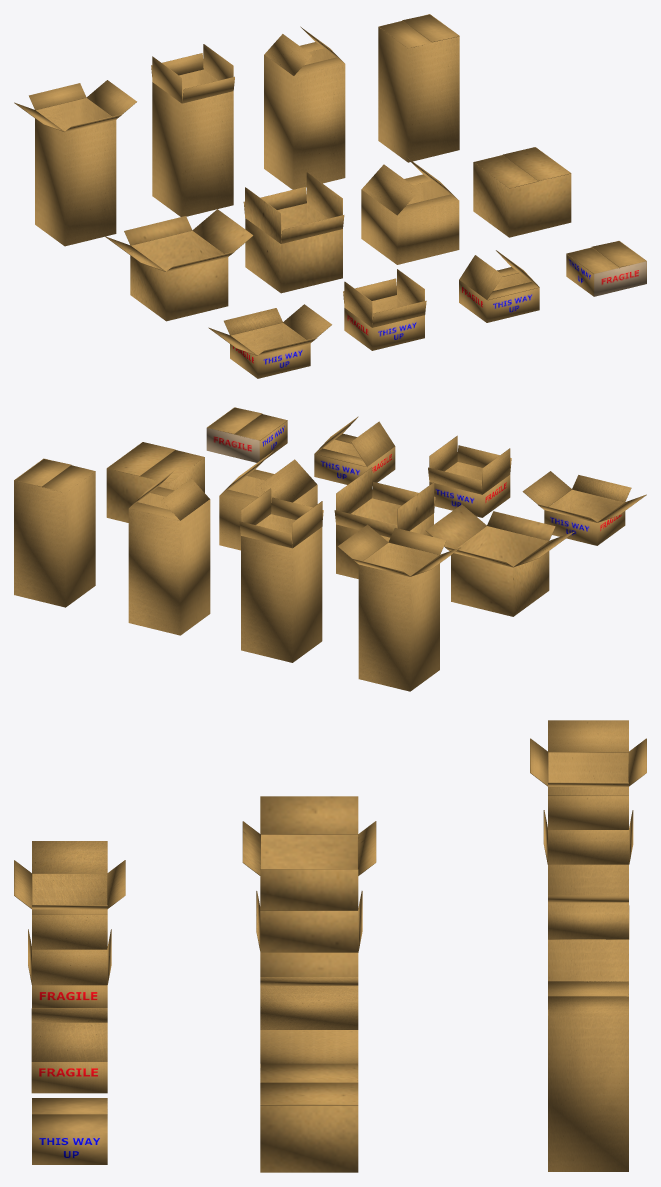
The model's file is CardboardBoxes.fbx.
3 views of the same model, one above another, from view 1: azimuth 30°, elevation 25°; view 2: azimuth 150°, elevation 25°; view 3: azimuth 270°, elevation 25° (orthographic). The views are drawn at different scales.
Parts seen in each view (by area): view 1: TallBoxWideOpen, TallBoxOpen, TallBoxPartiallyOpen, TallBoxClosed, MediumBoxWideOpen, MediumBoxOpen, MediumBoxPartiallyOpen, MediumBoxClosed, SmallBoxWideOpen, SmallBoxOpen, SmallBoxPartiallyOpen, SmallBoxClosed; view 2: TallBoxWideOpen, TallBoxOpen, TallBoxPartiallyOpen, TallBoxClosed, MediumBoxWideOpen, MediumBoxOpen, SmallBoxWideOpen, SmallBoxOpen, MediumBoxClosed, MediumBoxPartiallyOpen, SmallBoxPartiallyOpen, SmallBoxClosed; view 3: TallBoxClosed, MediumBoxOpen, MediumBoxClosed, MediumBoxWideOpen, MediumBoxPartiallyOpen, TallBoxOpen, SmallBoxOpen, TallBoxWideOpen, TallBoxPartiallyOpen, SmallBoxWideOpen, SmallBoxPartiallyOpen, SmallBoxClosed.
Part boxes in pixels (box(x1,y1,x2,y2)): TallBoxWideOpen: box(14, 80, 136, 246); TallBoxOpen: box(151, 44, 234, 216); TallBoxPartiallyOpen: box(264, 26, 345, 189); TallBoxClosed: box(378, 14, 459, 162); MediumBoxWideOpen: box(105, 209, 253, 321); MediumBoxOpen: box(243, 172, 344, 293); MediumBoxPartiallyOpen: box(361, 156, 459, 264); MediumBoxClosed: box(473, 147, 571, 237); SmallBoxWideOpen: box(208, 304, 331, 378); SmallBoxOpen: box(343, 269, 426, 350); SmallBoxPartiallyOpen: box(459, 250, 539, 322); SmallBoxClosed: box(566, 241, 646, 296); TallBoxWideOpen: box(337, 524, 460, 691); TallBoxOpen: box(239, 488, 323, 662); TallBoxPartiallyOpen: box(128, 471, 210, 635); TallBoxClosed: box(14, 458, 95, 607); MediumBoxWideOpen: box(426, 504, 574, 616); MediumBoxOpen: box(334, 467, 435, 578); SmallBoxWideOpen: box(522, 471, 646, 545); SmallBoxOpen: box(428, 435, 511, 517); MediumBoxClosed: box(106, 442, 204, 522); MediumBoxPartiallyOpen: box(219, 451, 317, 550); SmallBoxPartiallyOpen: box(314, 416, 395, 485); SmallBoxClosed: box(206, 407, 287, 462); TallBoxClosed: box(548, 981, 628, 1171); MediumBoxOpen: box(256, 869, 362, 976); MediumBoxClosed: box(260, 1063, 358, 1172); MediumBoxWideOpen: box(242, 796, 376, 875); MediumBoxPartiallyOpen: box(260, 977, 358, 1063); TallBoxOpen: box(543, 795, 633, 895); SmallBoxOpen: box(28, 914, 111, 1008); TallBoxWideOpen: box(530, 720, 646, 795); TallBoxPartiallyOpen: box(548, 895, 629, 981); SmallBoxWideOpen: box(14, 841, 125, 914); SmallBoxPartiallyOpen: box(31, 1008, 107, 1093); SmallBoxClosed: box(32, 1098, 107, 1164).
Size of the model in its own units: 467 by 145 by 435.
